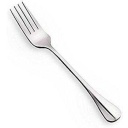Fork: (8, 1, 125, 123)
